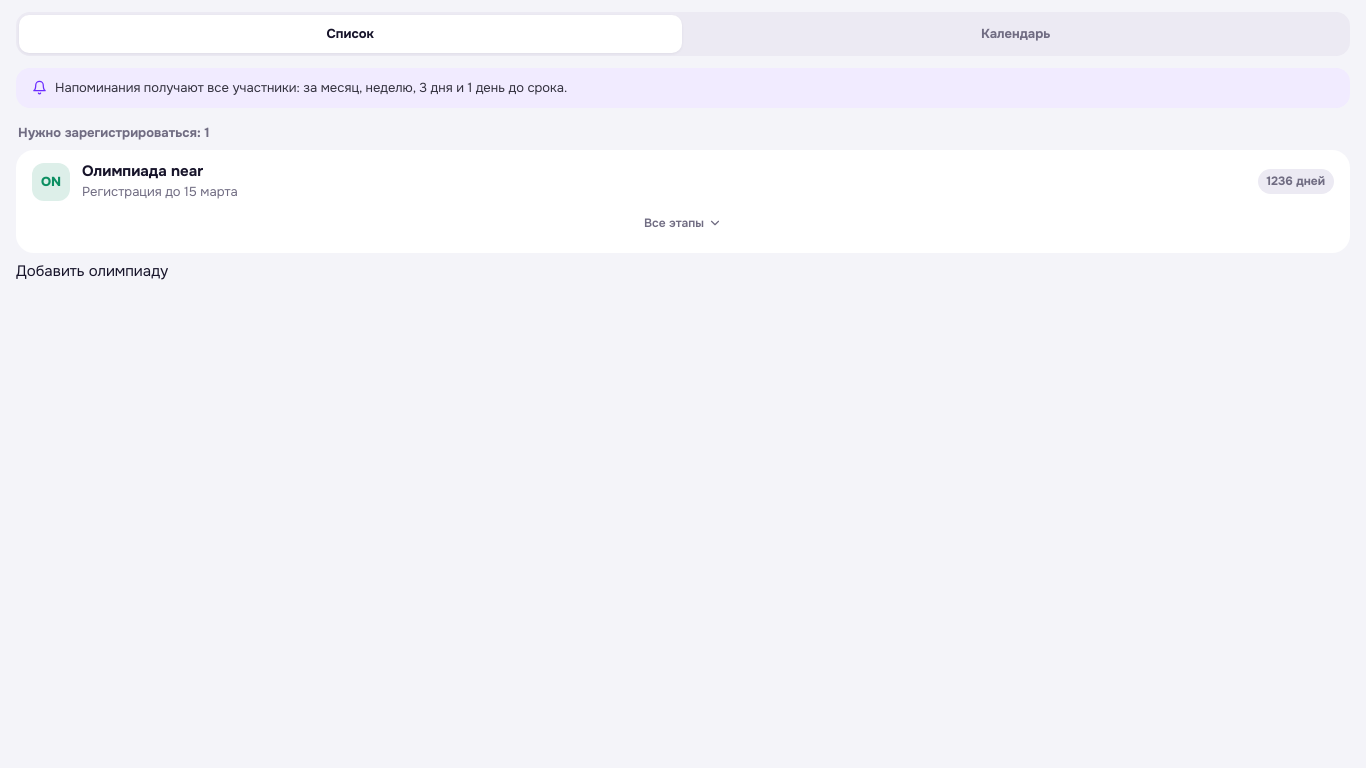
ссылку не выдали — объясняет, а не молчит
Click the tab "Календарь".
click(1016, 34)  # box [684,15,1347,53]
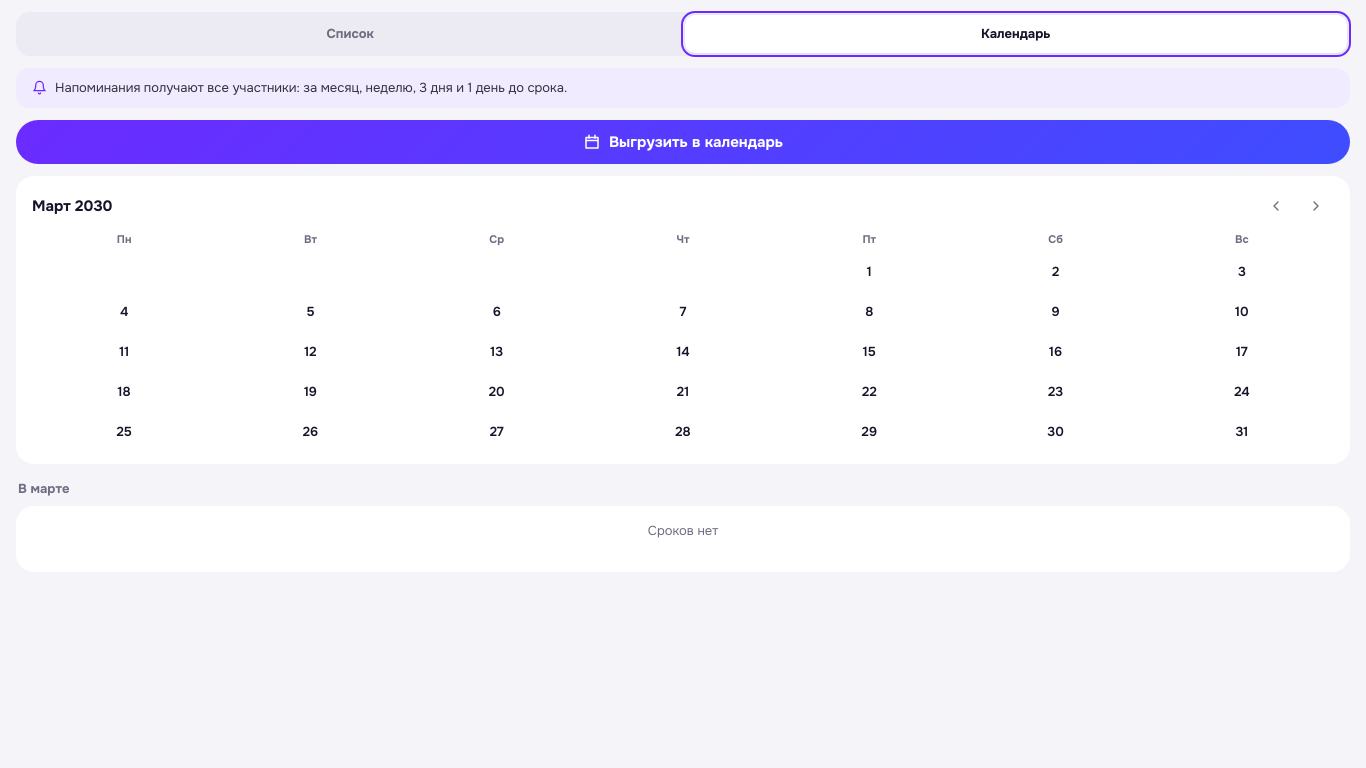
Click the button "Выгрузить в календарь".
click(683, 142)  # box [16,120,1350,164]
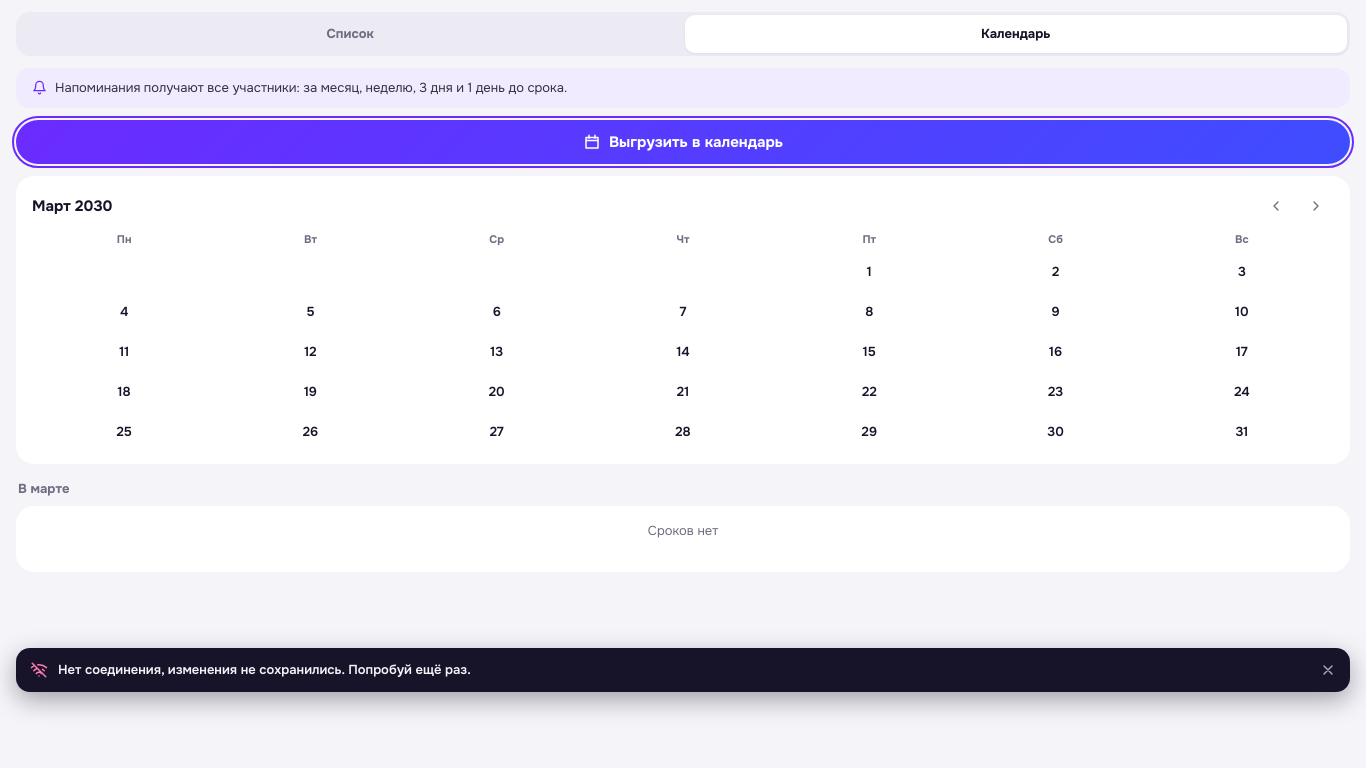
expect the message "Нет соединения, изменения не сохранились. Попробуй ещё раз." is shown: met, box [16,648,1350,692]
